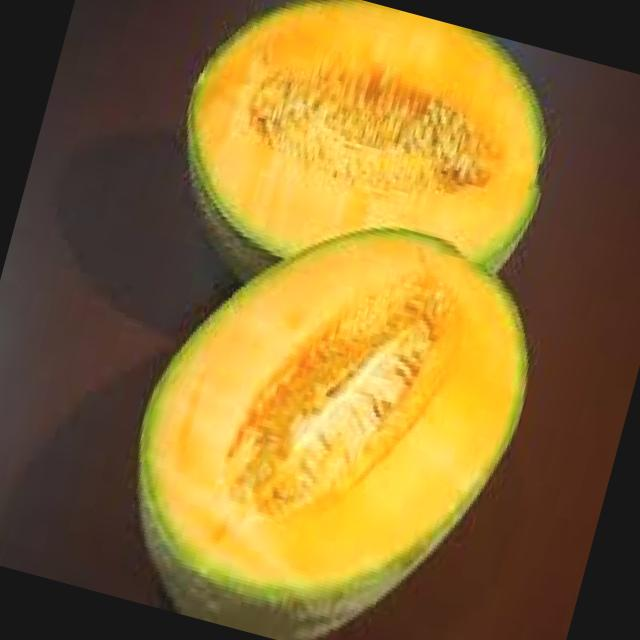cantaloupe: (96, 169, 563, 640), (158, 0, 578, 314)
